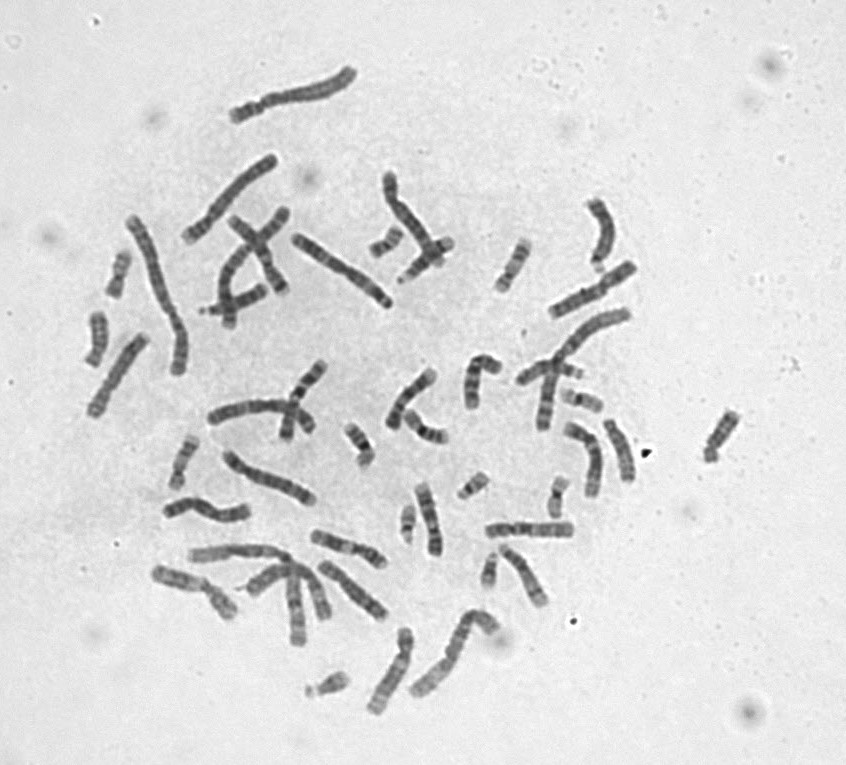chromosomes: (531, 304, 637, 444), (178, 540, 312, 650), (113, 209, 195, 381), (213, 205, 293, 339), (175, 148, 283, 245), (405, 606, 504, 704), (289, 230, 401, 315), (214, 65, 362, 123), (378, 167, 451, 272), (76, 330, 157, 424), (220, 444, 323, 512), (544, 255, 639, 326), (245, 560, 344, 626), (226, 213, 294, 306), (146, 563, 240, 625), (204, 397, 330, 438), (316, 559, 394, 624), (275, 356, 331, 446), (365, 625, 416, 722), (382, 364, 441, 435), (300, 527, 392, 572), (557, 418, 605, 504), (392, 232, 462, 285), (579, 189, 619, 277), (500, 539, 547, 611), (193, 279, 275, 319), (462, 351, 511, 415), (488, 235, 534, 301), (410, 479, 445, 565), (703, 406, 745, 476), (163, 431, 205, 497), (337, 411, 379, 476), (157, 497, 257, 524), (512, 359, 593, 391), (604, 416, 639, 490), (480, 519, 579, 541), (400, 409, 451, 448), (98, 249, 136, 301), (82, 307, 111, 372), (301, 668, 352, 704), (555, 384, 610, 416), (364, 226, 407, 261), (453, 469, 493, 503), (547, 467, 572, 520), (393, 502, 418, 549), (478, 548, 500, 591)
